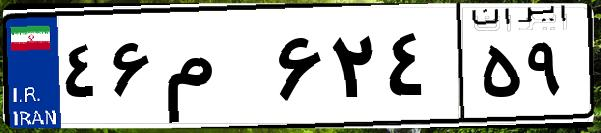2: (330, 28, 385, 110)
4: (385, 28, 445, 110), (57, 26, 110, 100)
5: (475, 38, 525, 113)
6: (270, 28, 330, 110), (110, 28, 158, 98)
9: (525, 38, 570, 115)
م: (158, 20, 270, 120)
